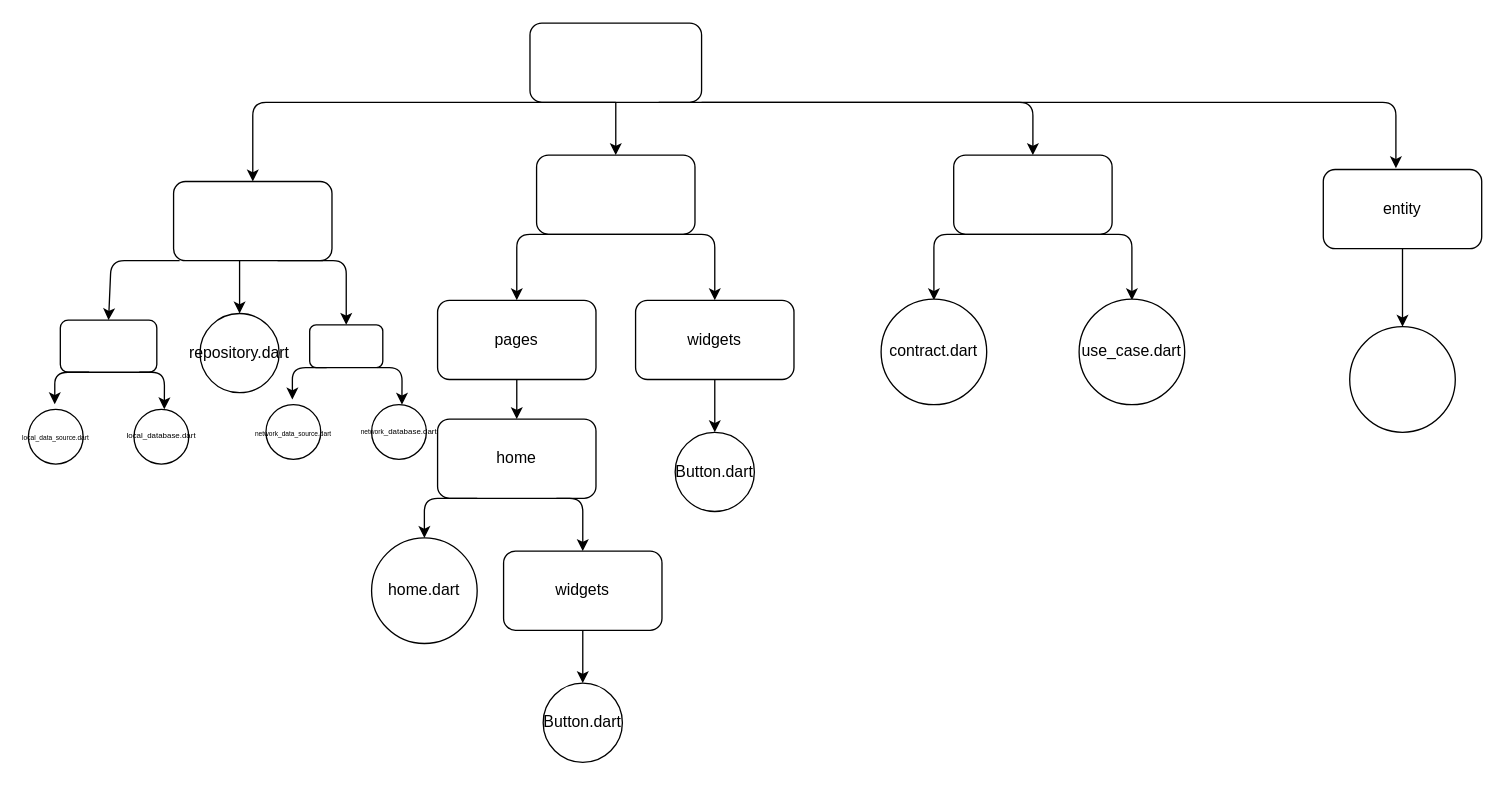
This 1506x785 diagram has some shape labels left out. Here are the shapes that lost their labels. From the top down, the box of each, then its label:
(529, 22, 702, 102): lib
(535, 154, 695, 234): ui
(952, 154, 1112, 234): domain
(172, 180, 332, 261): data
(59, 319, 157, 372): local
(308, 324, 383, 368): network
(1348, 325, 1455, 432): product.dart
